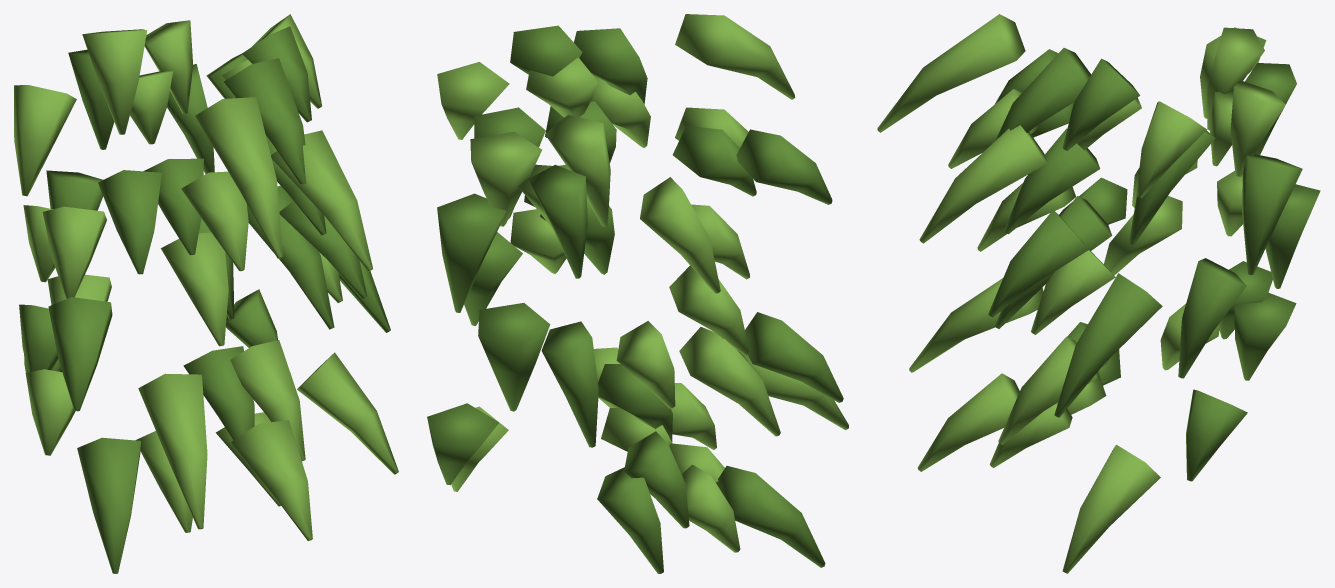
Rendered from were_thigh_fur.glb.
The picture shows the model from 3 angles, left to right: view 1: azimuth 30°, elevation 25°; view 2: azimuth 150°, elevation 25°; view 3: azimuth 270°, elevation 25°; orthographic projection. The views are drawn at different scales.
Parts seen in each view (by area): view 1: piece; view 2: piece; view 3: piece.
Boxes of the visible parts, x1,y1,x2,y2 form: piece: (14, 14, 398, 573); piece: (427, 14, 848, 573); piece: (877, 14, 1320, 573).
Bounding box in the file's own units: 0.3852 × 0.5087 × 0.4334.
